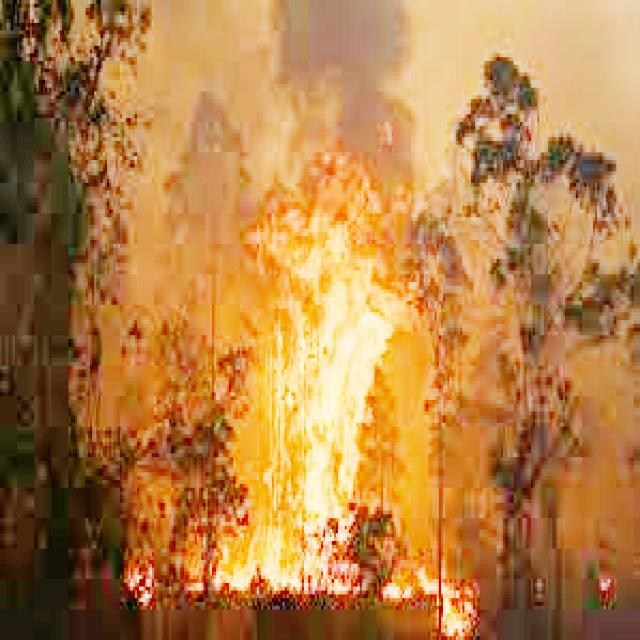api: (271, 213, 400, 605), (224, 539, 282, 604), (429, 575, 477, 640)
asap: (252, 1, 447, 180)
